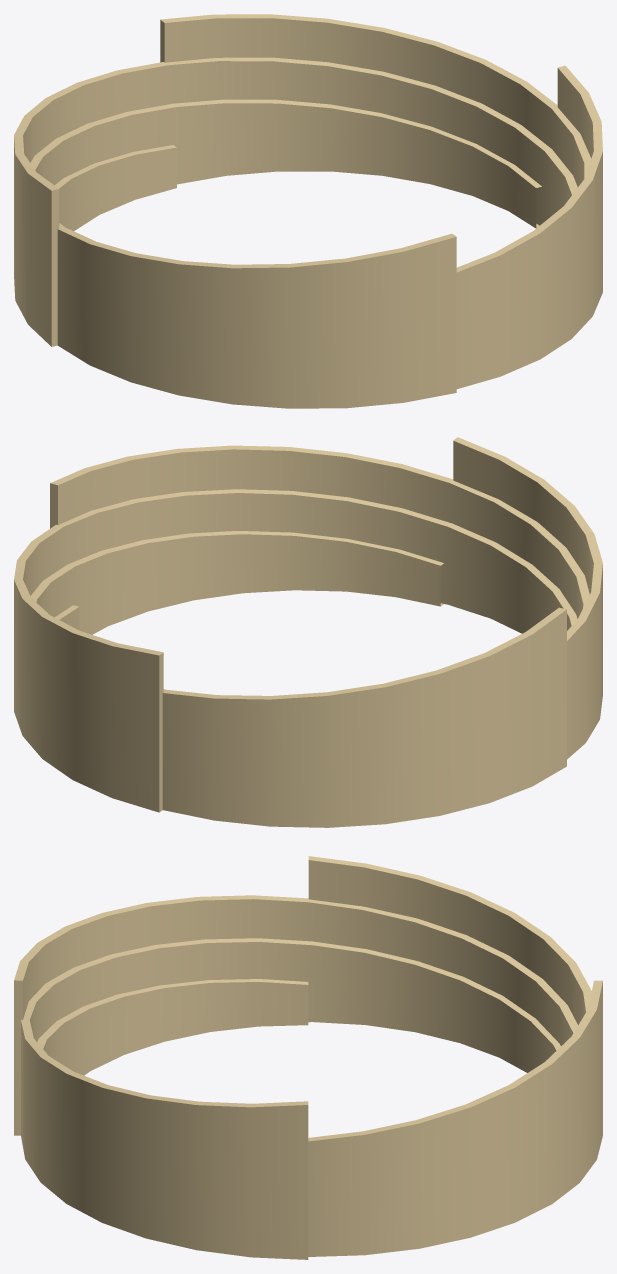
File: NewStaircaseWall.fbx
3 renders of one model, top to bottom at view 1: azimuth 30°, elevation 25°; view 2: azimuth 150°, elevation 25°; view 3: azimuth 270°, elevation 25°, orthographic.
Visible parts, largest first — view 1: StaircaseBaranda; view 2: StaircaseBaranda; view 3: StaircaseBaranda.
Boxes of the visible parts, bbox=[...] form: StaircaseBaranda: bbox=[14, 14, 602, 408]; StaircaseBaranda: bbox=[14, 437, 602, 827]; StaircaseBaranda: bbox=[14, 856, 602, 1259].
Bounding box in the file's own units: 813 × 236 × 813.
